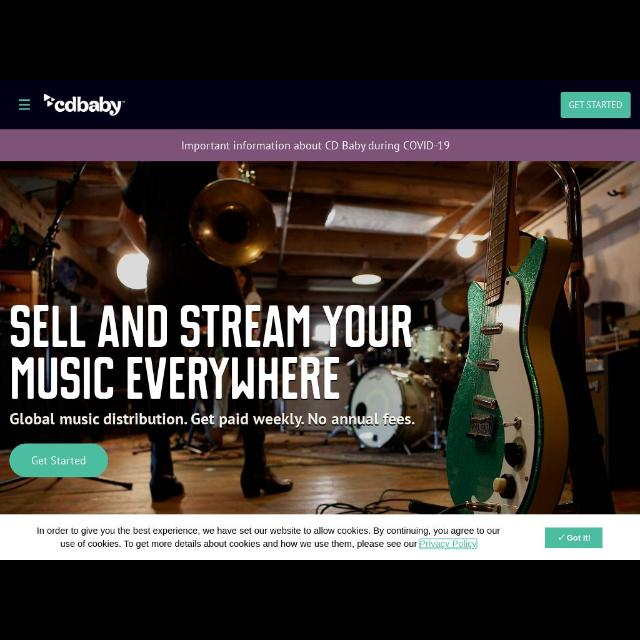backgroundimage: (1, 162, 640, 514)
icon: (18, 98, 32, 112), (559, 534, 565, 540)
image: (44, 94, 126, 116)
panel: (1, 515, 640, 559)
text: (9, 304, 415, 428), (38, 527, 500, 549), (181, 140, 449, 152), (31, 455, 87, 465), (570, 101, 622, 109), (567, 535, 591, 541)
textbutton: (9, 443, 109, 477), (560, 92, 632, 118), (546, 528, 602, 548)
toolbar: (1, 80, 640, 130)
